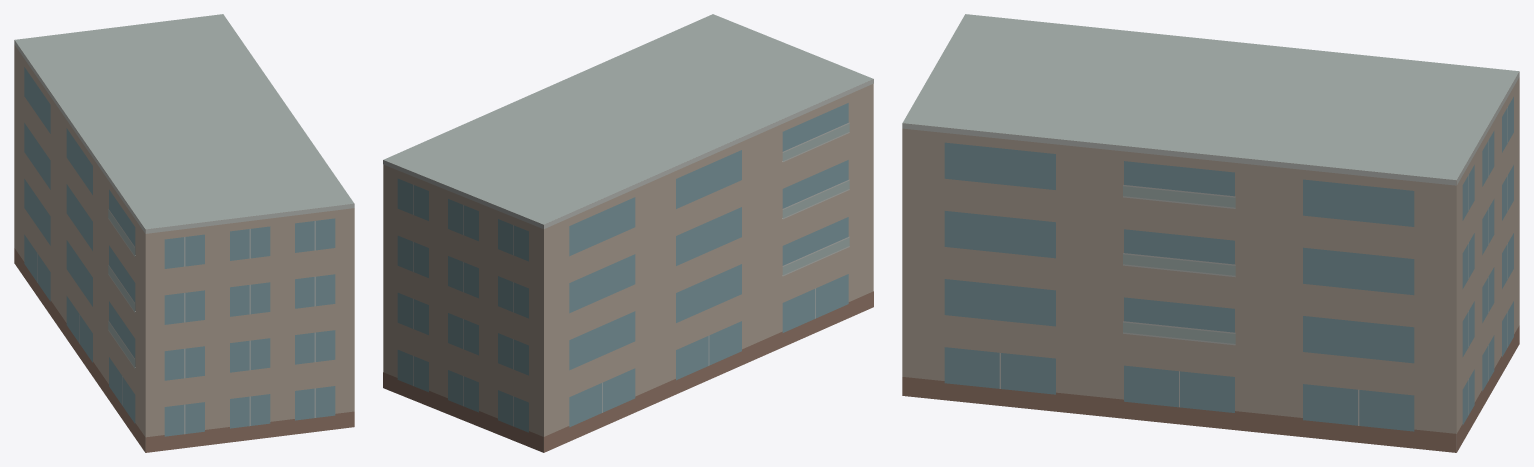
File: residential-34c33332-de7f-443b-b6c5-a21438e134cc.glb
3 renders of one model, left to right at view 1: azimuth 30°, elevation 25°; view 2: azimuth 150°, elevation 25°; view 3: azimuth 270°, elevation 25°, orthographic. The views are drawn at different scales.
Visible parts, largest first — view 1: residential-34c33332-de7f-443b-b6c5-a21438e134cc.tmp; view 2: residential-34c33332-de7f-443b-b6c5-a21438e134cc.tmp; view 3: residential-34c33332-de7f-443b-b6c5-a21438e134cc.tmp.
Boxes of the visible parts, x1,y1,x2,y2 form: residential-34c33332-de7f-443b-b6c5-a21438e134cc.tmp: (14,14,354,452); residential-34c33332-de7f-443b-b6c5-a21438e134cc.tmp: (383,14,873,452); residential-34c33332-de7f-443b-b6c5-a21438e134cc.tmp: (902,14,1519,452).
Size of the model in its own units: 15.96 by 12.2 by 25.04.
